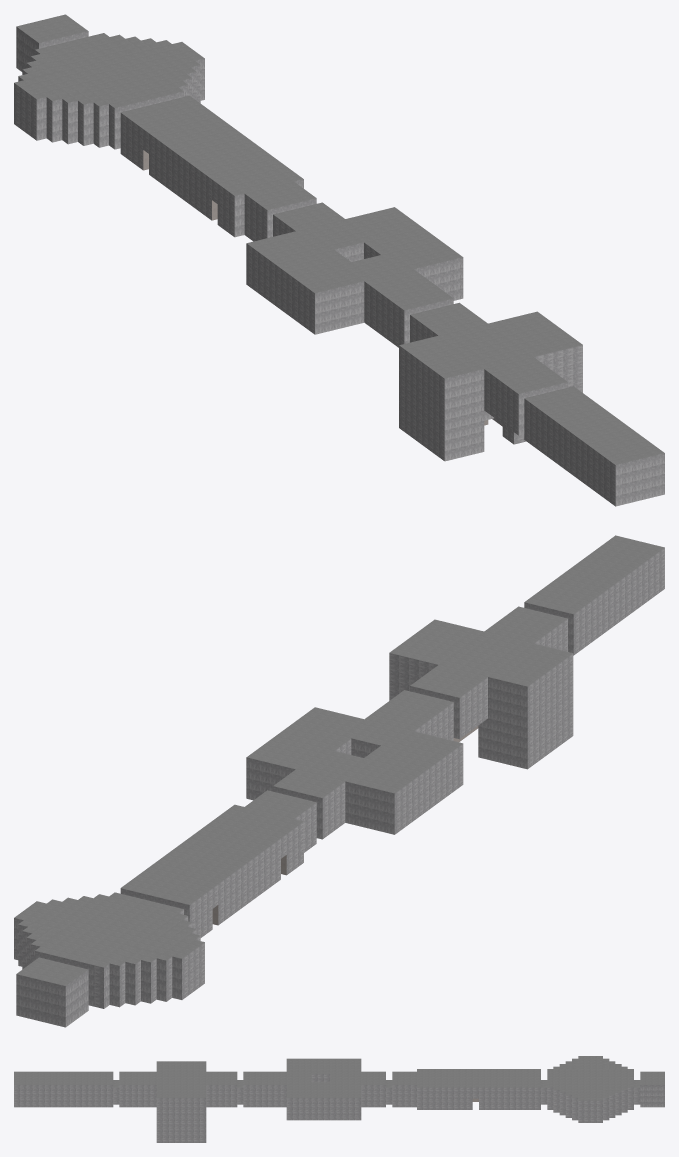
Rendered from PlayStage2.fbx.
3 views of the same model, one above another, from view 1: azimuth 30°, elevation 25°; view 2: azimuth 150°, elevation 25°; view 3: azimuth 270°, elevation 25° (orthographic). The views are drawn at different scales.
Visible parts, largest first — view 1: Plane.004; view 2: Plane.004; view 3: Plane.004.
Part boxes in pixels (x1,y1,x2,y2): Plane.004: (14,14,664,506); Plane.004: (14,535,664,1027); Plane.004: (14,1056,664,1142).
Bounding box in the file's own units: 68 × 32 × 420.
3 materials, 3 textured.
